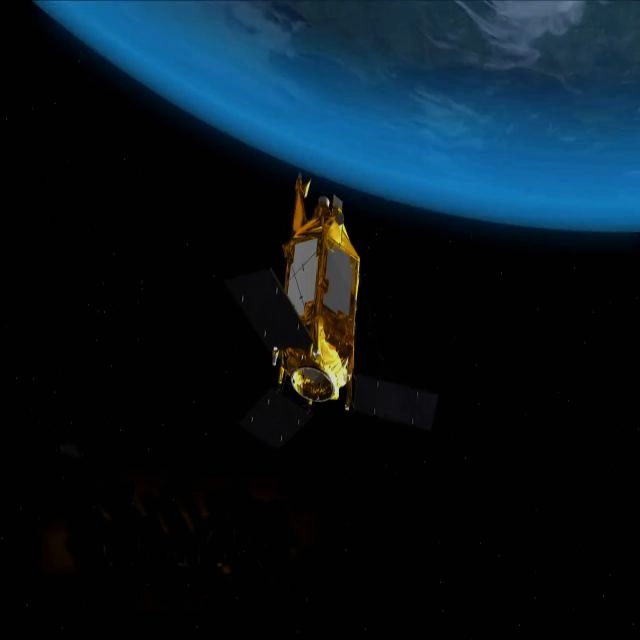medium_debris: (263, 129, 383, 452)
